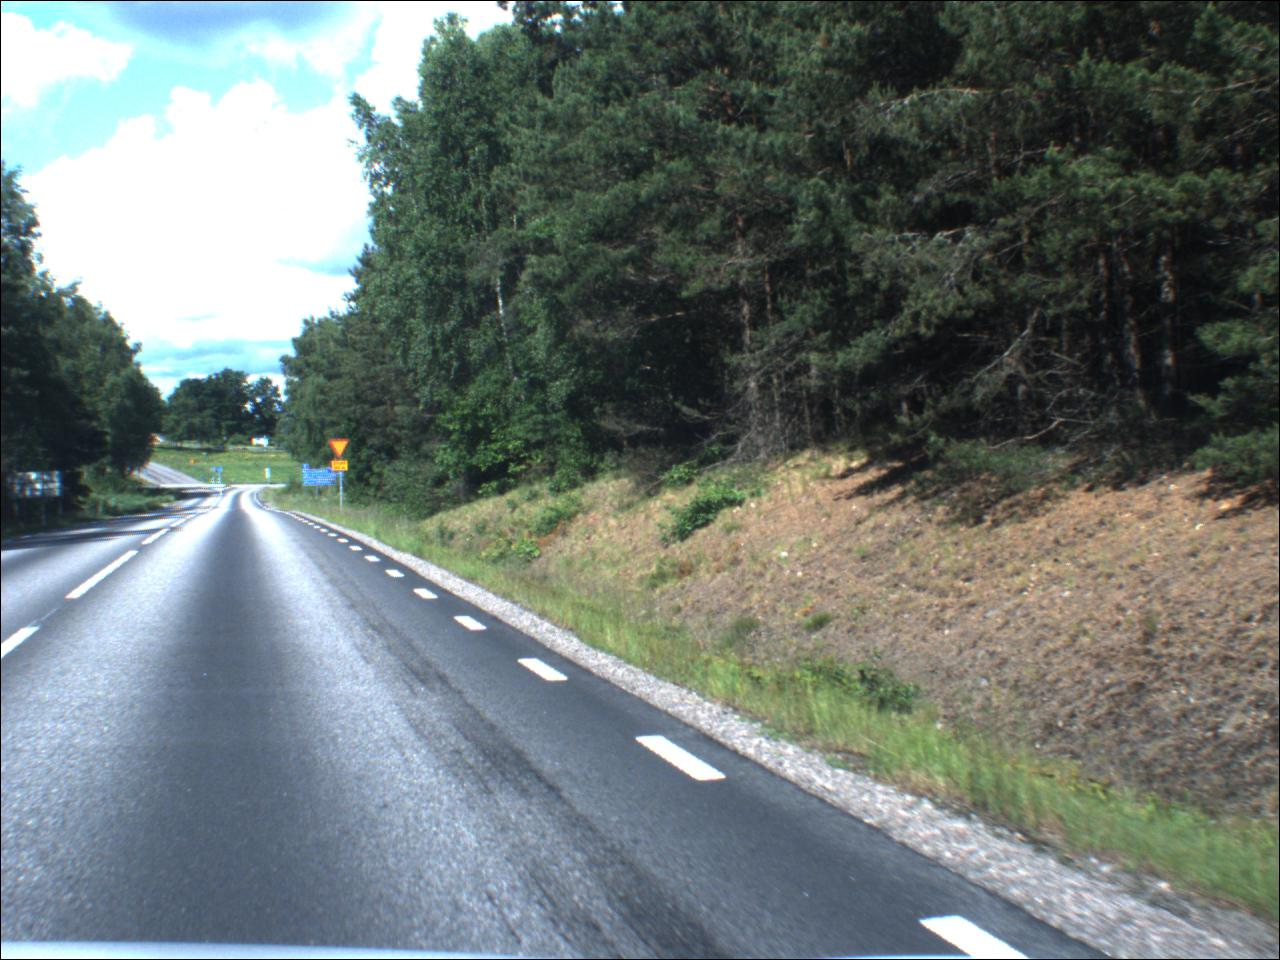GIVE_WAY: (330, 440, 351, 459)
